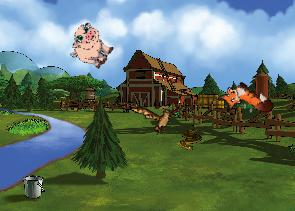eagle: (129, 94, 183, 140)
fox: (214, 73, 276, 131)
pig: (63, 19, 119, 73)
